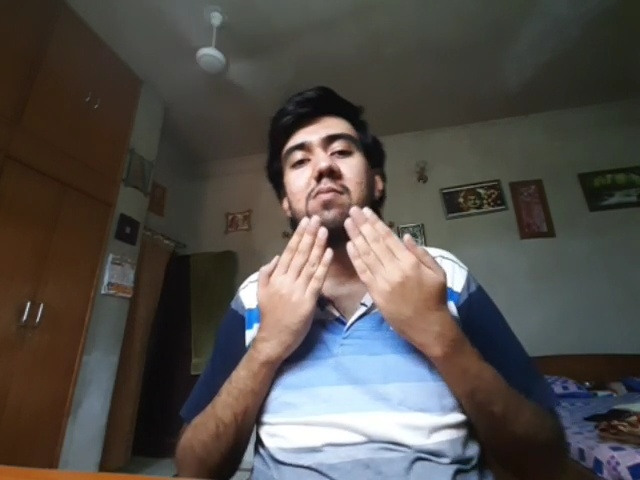ThankYou: (257, 206, 447, 348)
